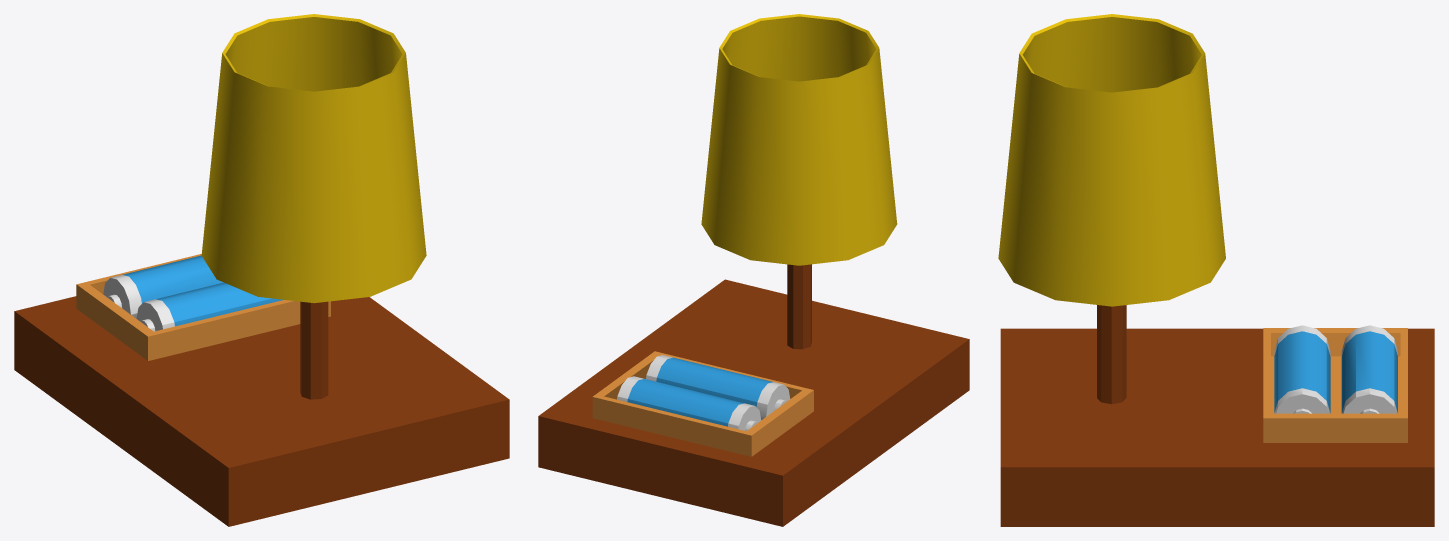
The model's file is lampu.fbx.
3 views of the same model, side by side, from view 1: azimuth 30°, elevation 25°; view 2: azimuth 150°, elevation 25°; view 3: azimuth 270°, elevation 25° (orthographic). The views are drawn at different scales.
Parts seen in each view (by area): view 1: Cube.001, Cylinder.007, Cube.002, Cylinder.008, Cylinder.003; view 2: Cube.001, Cylinder.007, Cylinder.008, Cube.002, Cylinder.003; view 3: Cube.001, Cylinder.007, Cylinder.008, Cube.002, Cylinder.003.
Part boxes in pixels (x1,y1,x2,y2): Cube.001: (14,296,509,526); Cylinder.007: (201,14,426,303); Cube.002: (76,254,330,360); Cylinder.008: (103,255,283,331); Cylinder.003: (300,301,328,399); Cube.001: (538,279,969,526); Cylinder.007: (701,14,897,265); Cylinder.008: (617,355,790,430); Cube.002: (592,351,813,456); Cylinder.003: (787,264,811,349); Cube.001: (1000,328,1434,526); Cylinder.007: (998,14,1225,306); Cylinder.008: (1274,325,1397,413); Cube.002: (1263,328,1407,442); Cylinder.003: (1097,305,1126,404).
Size of the model in its own units: 200 by 272 by 266.
